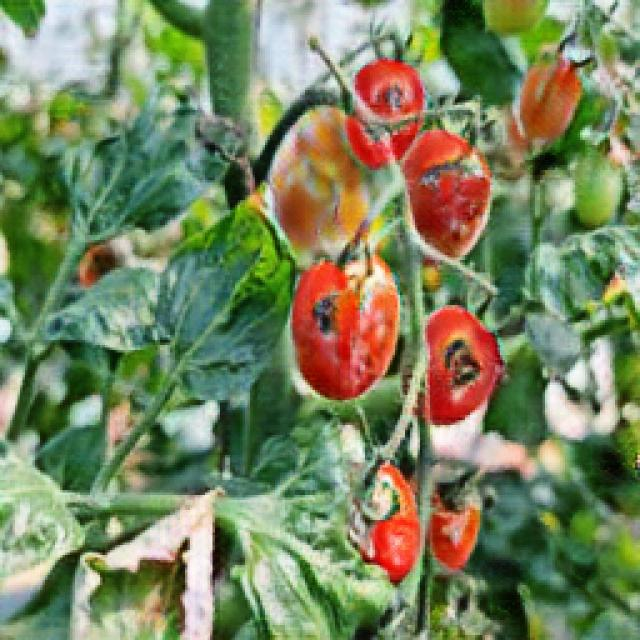overripe tomato: (294, 256, 401, 401), (397, 128, 496, 266), (426, 303, 504, 421), (351, 47, 428, 126), (429, 477, 485, 572)
